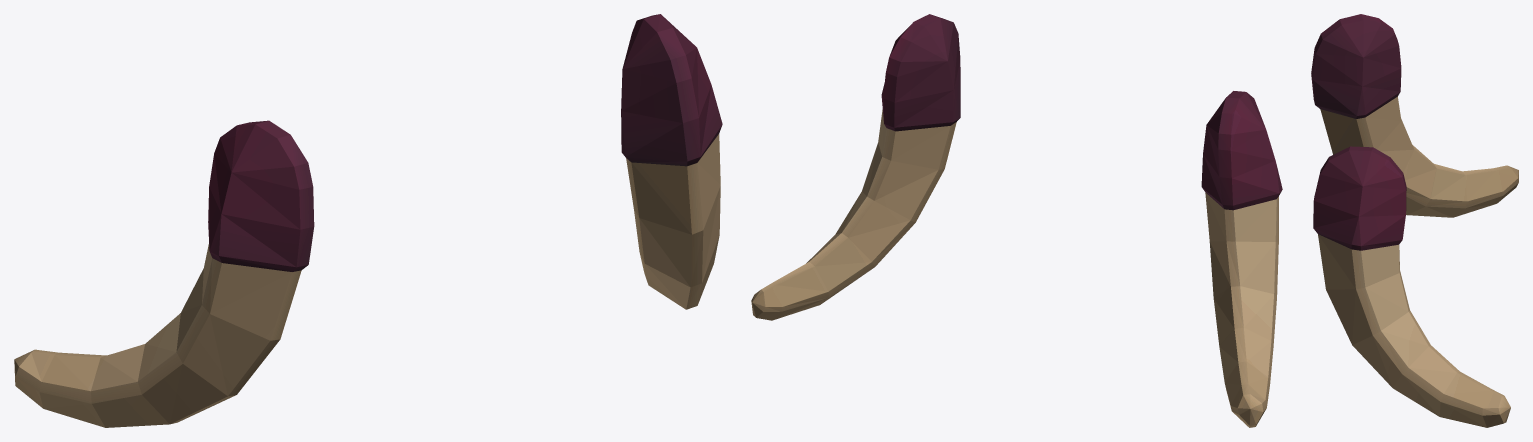
The model's file is CharSkyKid_Horn_AP18Tusk.glb.
3 renders of one model, left to right at view 1: azimuth 30°, elevation 25°; view 2: azimuth 150°, elevation 25°; view 3: azimuth 270°, elevation 25°, orthographic. The views are drawn at different scales.
Visible parts, largest first — view 1: CharSkyKid_Horn_AP18Tusk; view 2: CharSkyKid_Horn_AP18Tusk; view 3: CharSkyKid_Horn_AP18Tusk.
Boxes of the visible parts, x1,y1,x2,y2 form: CharSkyKid_Horn_AP18Tusk: [14, 14, 722, 427]; CharSkyKid_Horn_AP18Tusk: [751, 14, 1282, 427]; CharSkyKid_Horn_AP18Tusk: [1311, 14, 1518, 427].
Bounding box in the file's own units: 3.47 × 1.73 × 1.35.
1 material, 1 textured.
